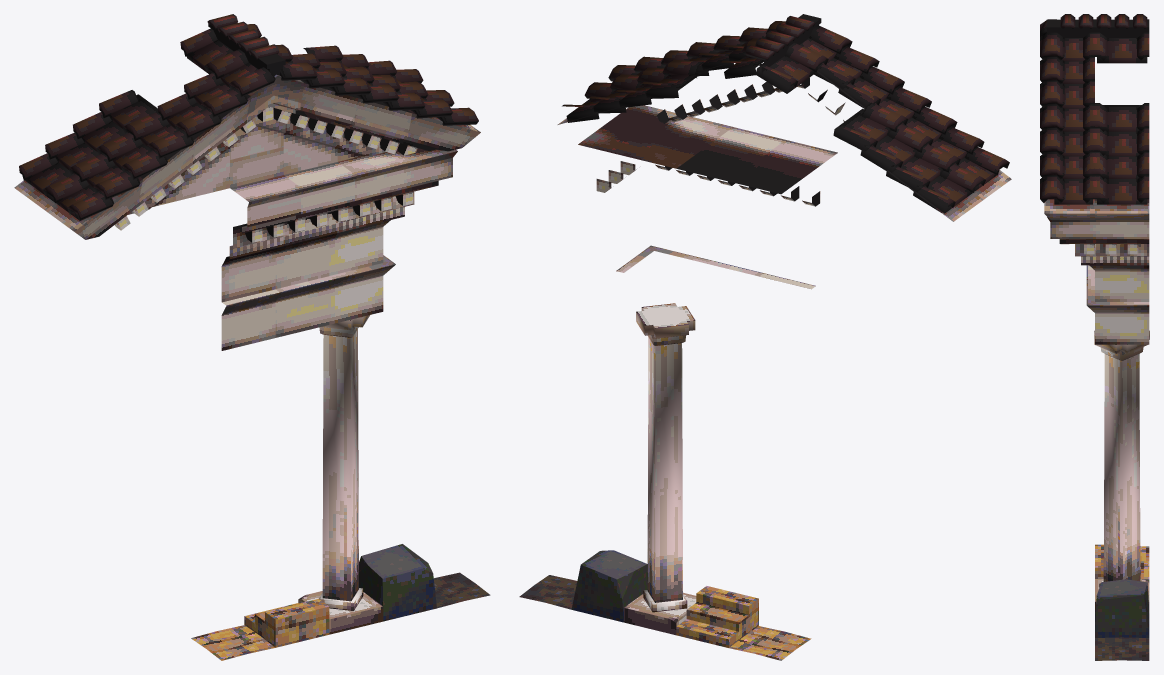
Rendered from tiles.glb.
3 views of the same model, side by side, from view 1: azimuth 30°, elevation 25°; view 2: azimuth 150°, elevation 25°; view 3: azimuth 270°, elevation 25° (orthographic). The views are drawn at different scales.
Visible parts, largest first — view 1: pillar_00, temple_roof_border_corner, temple_roof_border_wall_01, temple_roof_border_wall_00, temple_roof_border_center, temple_roof_border_inner_inverse, temple_roof_border_inner, temple_roof_border_end_00_inverse, temple_roof_border_end_01_inverse, temple_roof_border_end_01, stone_00, temple_roof_border_end_00 (+9 smaller); view 2: pillar_00, temple_roof_border_corner, stone_00, temple_roof_end_inverse, stairs_00, temple_roof_border_wall_01, temple_roof_inverse, temple_roof_center, temple_roof_border_wall_00, temple_roof_border_inner_inverse, temple_roof_border_end_00_inverse, temple_roof_border_center (+8 smaller); view 3: pillar_00, temple_roof_border_corner, temple_roof_end, temple_roof_border_end_00, stone_00, temple_roof, temple_roof_border_end_01, temple_roof_border_inner, temple_roof_center, temple_roof_border_center, dirt, stairs_00.
Boxes of the visible parts, x1,y1,x2,y2 form: pillar_00: (298, 315, 383, 634); temple_roof_border_corner: (329, 148, 457, 324); temple_roof_border_wall_01: (221, 175, 302, 350); temple_roof_border_wall_00: (275, 162, 356, 337); temple_roof_border_center: (211, 36, 317, 159); temple_roof_border_inner_inverse: (157, 72, 250, 201); temple_roof_border_inner: (283, 53, 371, 174); temple_roof_border_end_00_inverse: (45, 155, 142, 239); temple_roof_border_end_01_inverse: (104, 114, 196, 216); temple_roof_border_end_01: (337, 68, 424, 161); stone_00: (359, 544, 436, 621); temple_roof_border_end_00: (396, 83, 480, 155); pillar_00: (624, 303, 696, 635); temple_roof_border_corner: (578, 105, 732, 272); stone_00: (571, 550, 647, 622); temple_roof_end_inverse: (886, 146, 983, 221); stairs_00: (676, 586, 758, 647); temple_roof_border_wall_01: (729, 140, 837, 289); temple_roof_inverse: (833, 104, 926, 172); temple_roof_center: (719, 30, 821, 93); temple_roof_border_wall_00: (676, 127, 785, 276); temple_roof_border_inner_inverse: (814, 46, 904, 121); temple_roof_border_end_00_inverse: (925, 127, 1011, 199); temple_roof_border_center: (749, 14, 852, 102); pillar_00: (1094, 330, 1149, 612); temple_roof_border_corner: (1047, 216, 1149, 344); temple_roof_end: (1095, 152, 1149, 219); temple_roof_border_end_00: (1040, 152, 1094, 219); stone_00: (1095, 579, 1149, 637); temple_roof: (1095, 103, 1149, 156); temple_roof_border_end_01: (1040, 104, 1094, 156); temple_roof_border_inner: (1040, 57, 1094, 108); temple_roof_center: (1095, 14, 1149, 63); temple_roof_border_center: (1040, 14, 1094, 61); dirt: (1095, 637, 1149, 660); stairs_00: (1095, 544, 1149, 580).
Size of what is drawn, in the model's own units: 8.28 by 10.98 by 2.02.
5 materials, 5 textured.
